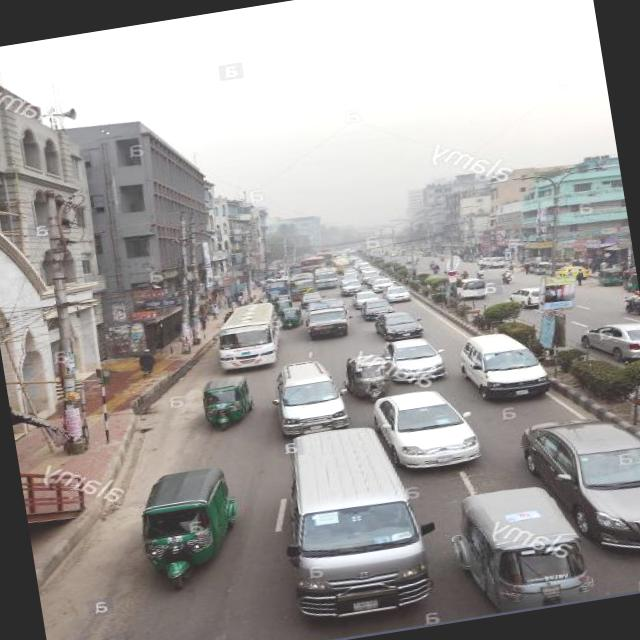bus: (208, 296, 294, 376), (314, 264, 342, 290)
car: (513, 402, 640, 572), (364, 379, 489, 482), (380, 332, 454, 390), (577, 314, 640, 371), (370, 303, 433, 347), (509, 282, 548, 310), (384, 281, 418, 305)
motorcycle: (442, 476, 602, 620), (132, 461, 255, 596), (202, 371, 262, 434), (339, 349, 399, 404), (596, 261, 632, 288), (282, 302, 307, 332), (619, 286, 640, 318), (498, 264, 516, 283)
truck: (272, 408, 455, 630), (456, 323, 558, 410), (266, 351, 356, 444), (306, 292, 360, 344), (459, 272, 495, 302)
